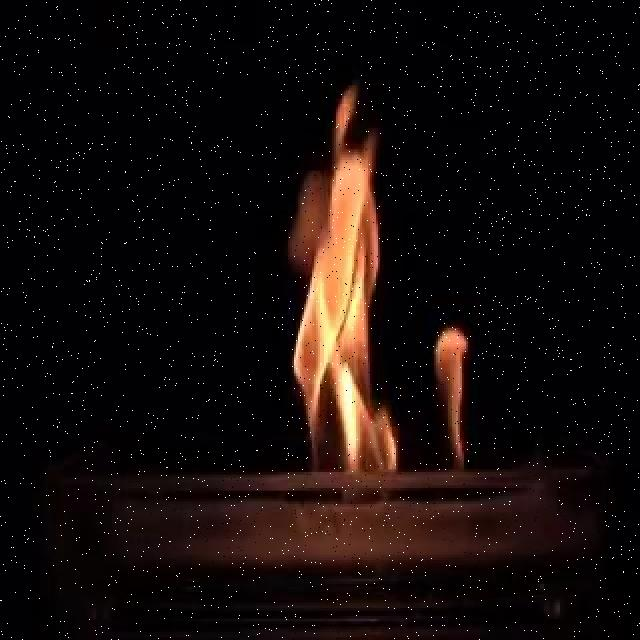fire: (296, 98, 399, 478), (429, 332, 482, 477)
